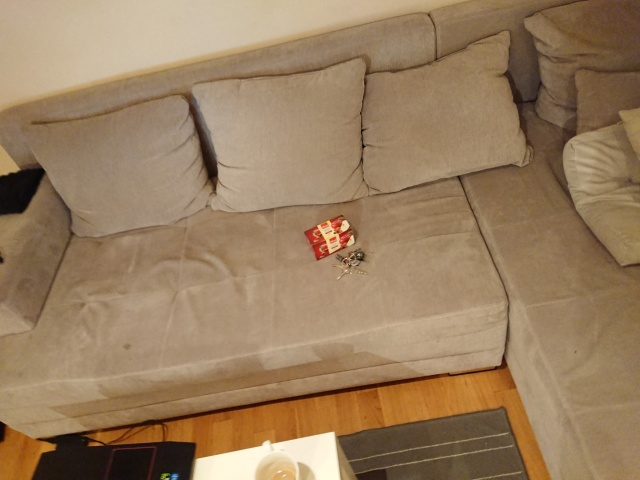Franck Apple Cinnamon Tea 60g: (301, 212, 357, 262)
